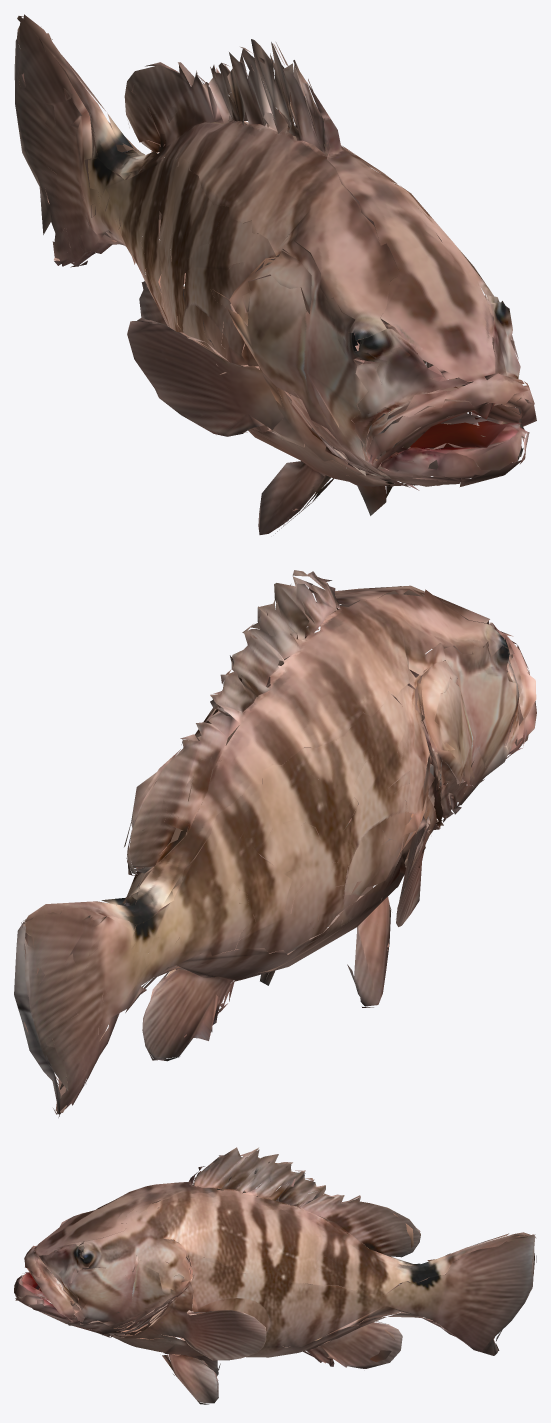
The model's file is grouper.glb.
The picture shows the model from 3 angles, top to bottom: view 1: azimuth 30°, elevation 25°; view 2: azimuth 150°, elevation 25°; view 3: azimuth 270°, elevation 25°; orthographic projection. The views are drawn at different scales.
Parts seen in each view (by area): view 1: grouper.001; view 2: grouper.001; view 3: grouper.001.
Part boxes in pixels (left/top/right/bottom): grouper.001: left=14, top=14, right=536, bottom=534; grouper.001: left=14, top=570, right=536, bottom=1117; grouper.001: left=14, top=1147, right=536, bottom=1404.
Size of the model in its own units: 0.3451 by 0.5237 by 1.
Materials: 1 (1 with a texture image).
